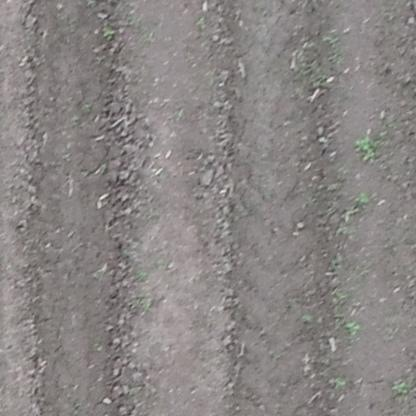vc: (346, 320, 362, 334)
